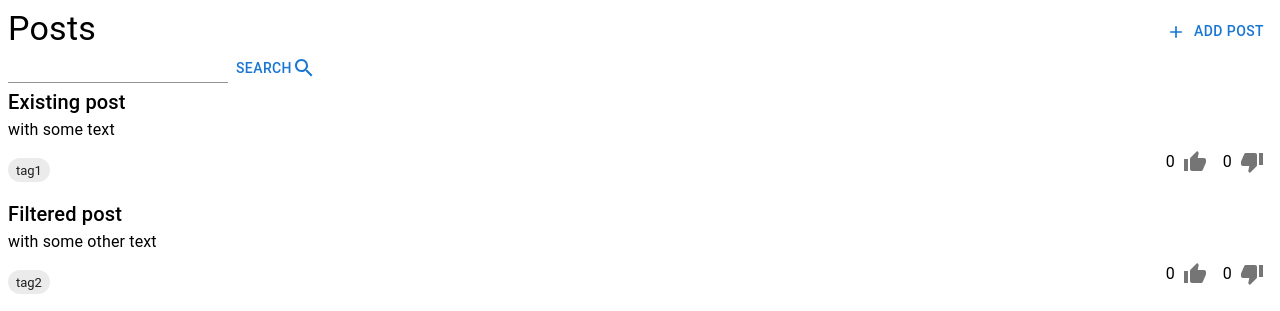
Test case: PostsList › filters posts
Expected: the button "Search" is shown, [228, 50, 324, 86]
Expected: the heading "Filtered post" is shown, [8, 202, 122, 226]
Type "Filtered" into the search field at {"x": 118, "y": 67}, box [8, 51, 228, 83]
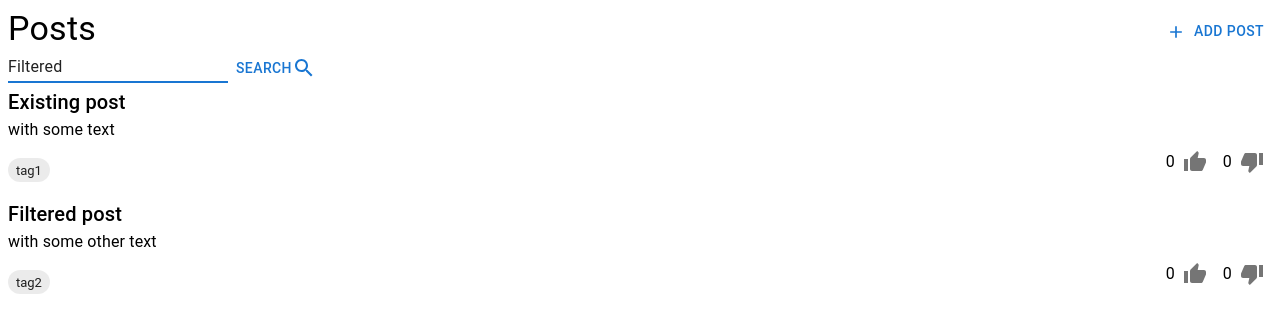
Click the button "Search" at {"x": 276, "y": 68}, box [228, 50, 324, 86]
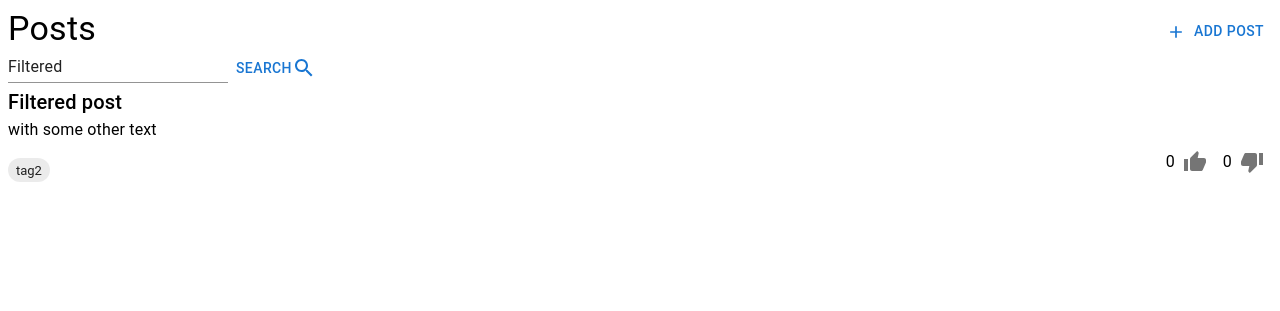
Expected: the heading "Filtered post" is shown, [8, 90, 122, 114]
Expected: the heading "Existing post" is gone
